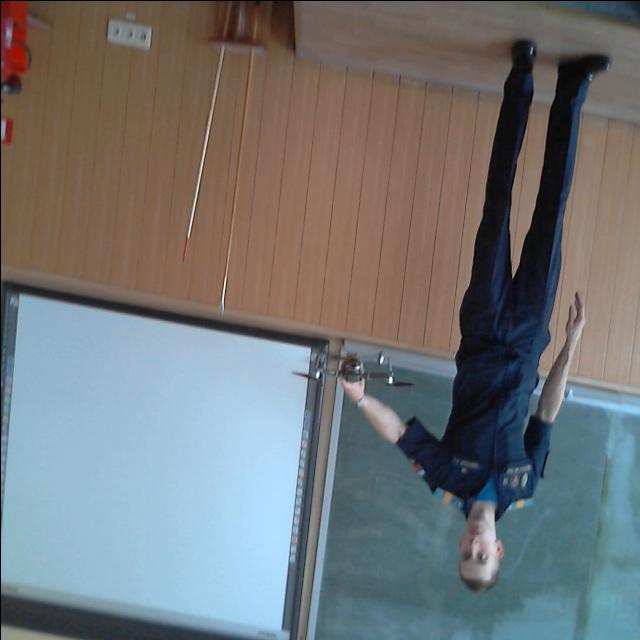drone: (294, 332, 413, 402)
